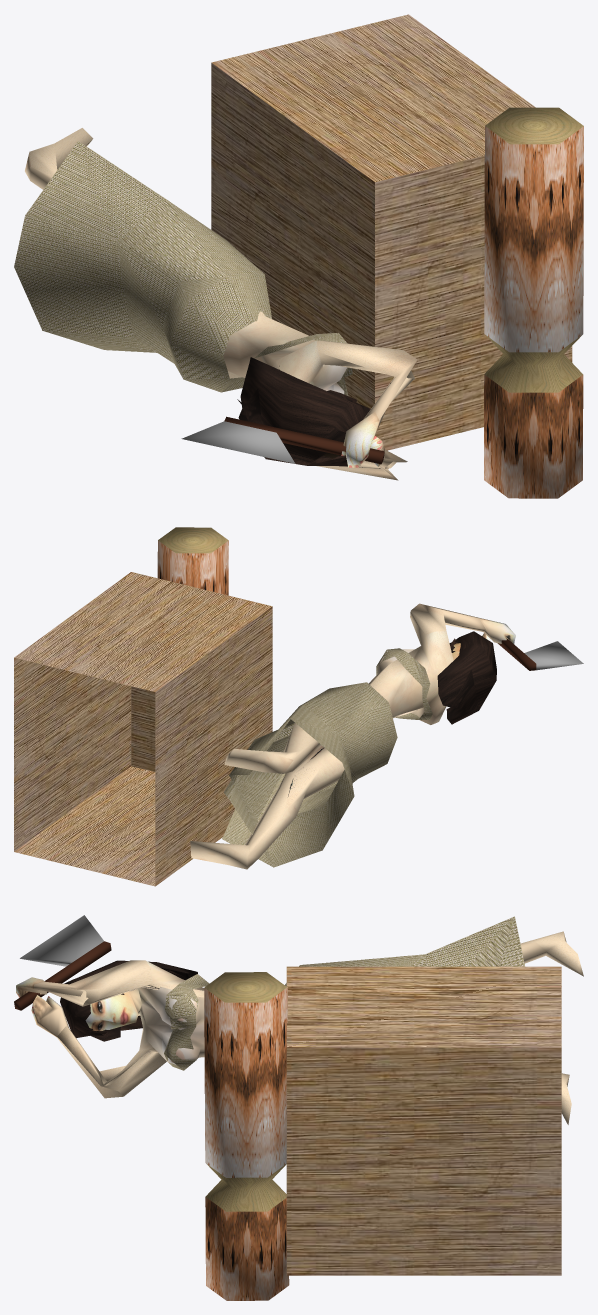
The model's file is worker_000611.obj.
The picture shows the model from 3 angles, top to bottom: view 1: azimuth 30°, elevation 25°; view 2: azimuth 150°, elevation 25°; view 3: azimuth 270°, elevation 25°; orthographic projection. The views are drawn at different scales.
Parts seen in each view (by area): view 1: cube_Cube, saree_Cylinder, log_Cylinder.003, body.001_omino.012, hair.003_omino.013, axe_Cylinder.001; view 2: cube_Cube, saree_Cylinder, body.001_omino.012, log_Cylinder.003, hair.003_omino.013, axe_Cylinder.001; view 3: cube_Cube, log_Cylinder.003, body.001_omino.012, saree_Cylinder, axe_Cylinder.001, hair.003_omino.013.
Boxes of the visible parts, <box> form: cube_Cube: <box>211,14,572,450</box>; saree_Cylinder: <box>14,141,352,395</box>; log_Cylinder.003: <box>484,107,583,498</box>; body.001_omino.012: <box>25,128,417,480</box>; hair.003_omino.013: <box>237,357,370,466</box>; axe_Cylinder.001: <box>181,416,384,464</box>; cube_Cube: <box>14,572,272,886</box>; saree_Cylinder: <box>222,648,432,867</box>; body.001_omino.012: <box>190,603,515,869</box>; log_Cylinder.003: <box>157,527,228,595</box>; hair.003_omino.013: <box>437,631,496,724</box>; axe_Cylinder.001: <box>497,639,583,670</box>; cube_Cube: <box>286,966,561,1275</box>; log_Cylinder.003: <box>204,972,289,1300</box>; body.001_omino.012: <box>16,931,583,1124</box>; saree_Cylinder: <box>164,916,524,1070</box>; axe_Cylinder.001: <box>14,915,111,1010</box>; hair.003_omino.013: <box>60,960,197,1041</box>.
Size of the model in its own units: 2.53 by 1.68 by 2.91.
